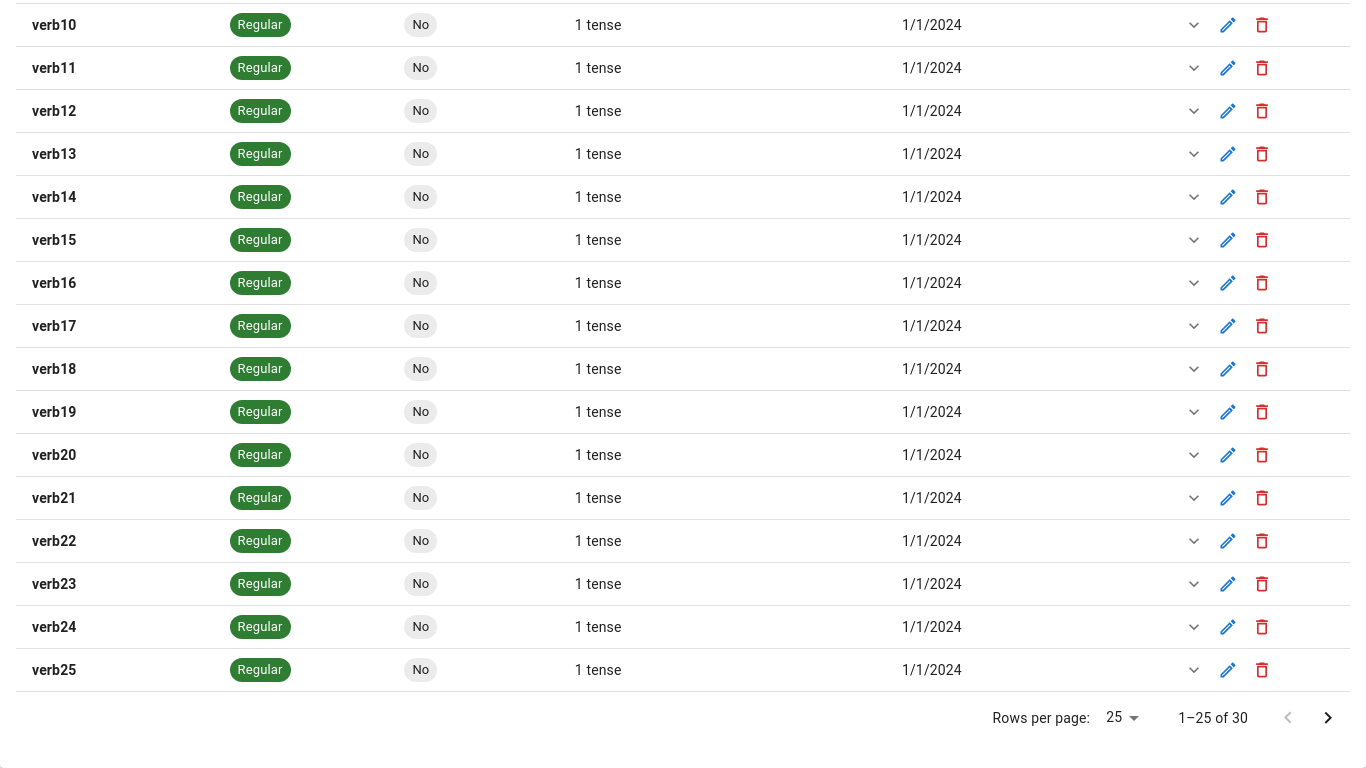
Scenario: ConjugationsList › Pagination › should change page when next page is clicked
(page scrolled)
Expected: the text "1–25 of 30" is shown, [1178, 708, 1248, 728]
Click next page
Click the button named "next page".
click(1328, 718)  # box [1308, 698, 1348, 738]
(page scrolled)
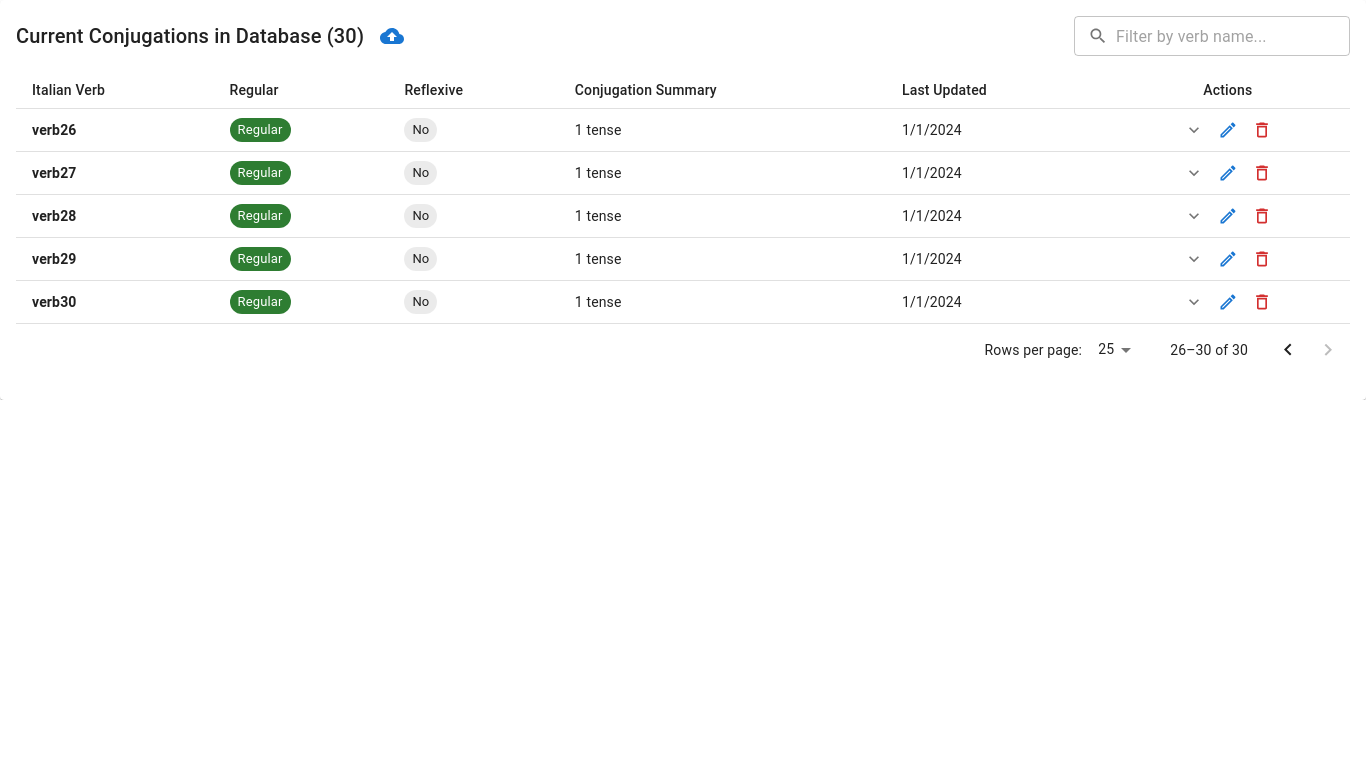
Now the text "26–30 of 30" is shown, box [1170, 340, 1248, 360]
